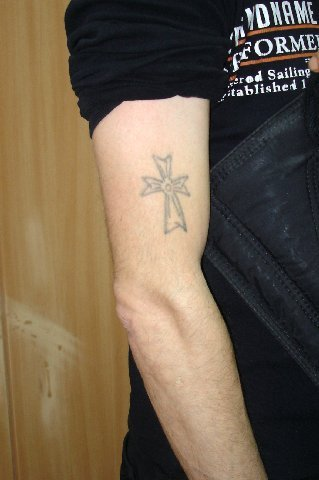tatu9_krest: (136, 146, 202, 242)
